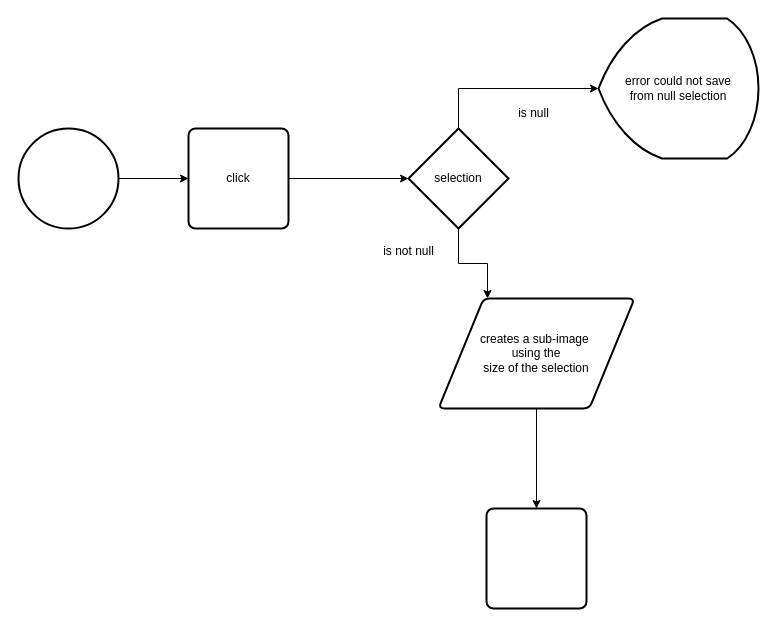
The diagram is 776 pixels wide and 626 high, and some of its shapes have lost their labels. The centre of each missing label's shape, as x and y in pixels:
"cut" belongs at (68,178).
"saves sub-image" belongs at (536,558).
